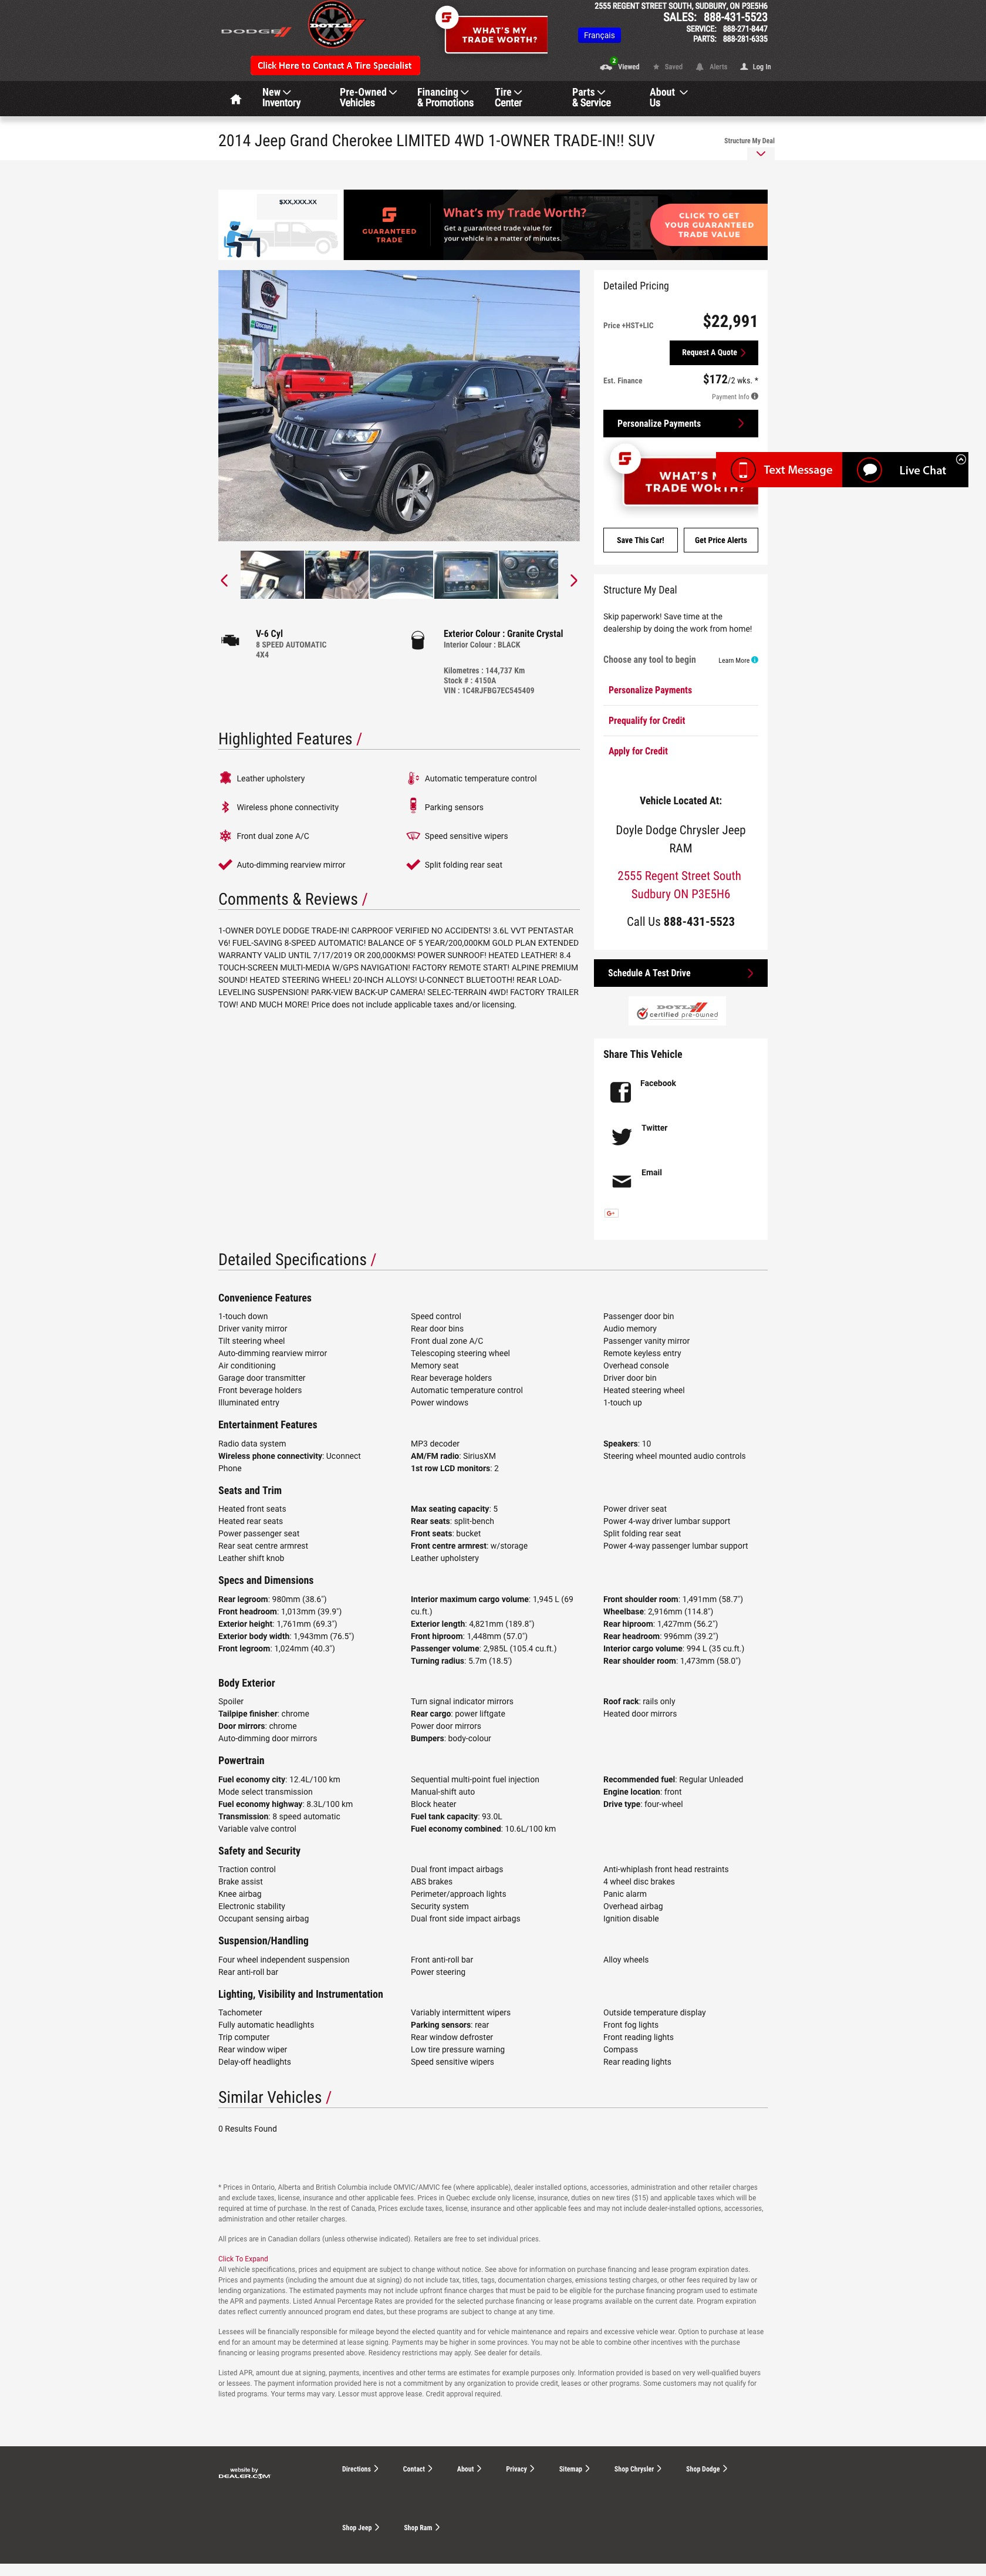car: (570, 573, 578, 588)
